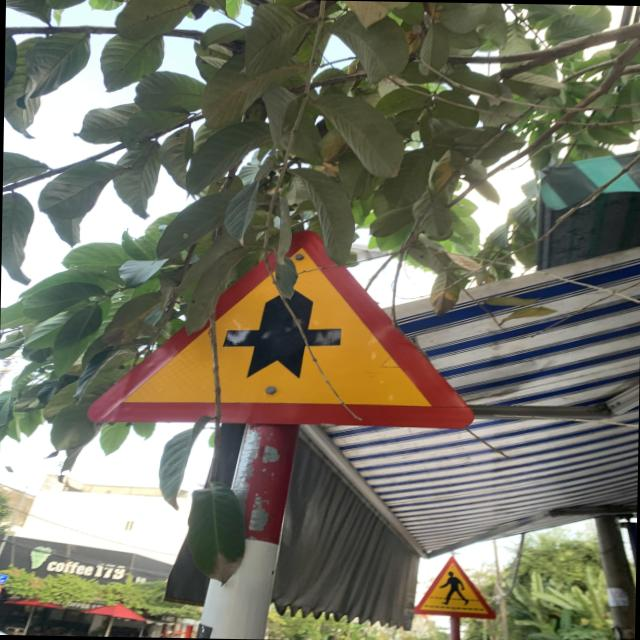Duong_Nguoi_Di_Bo_Sang_Ngang: (412, 556, 494, 618)
